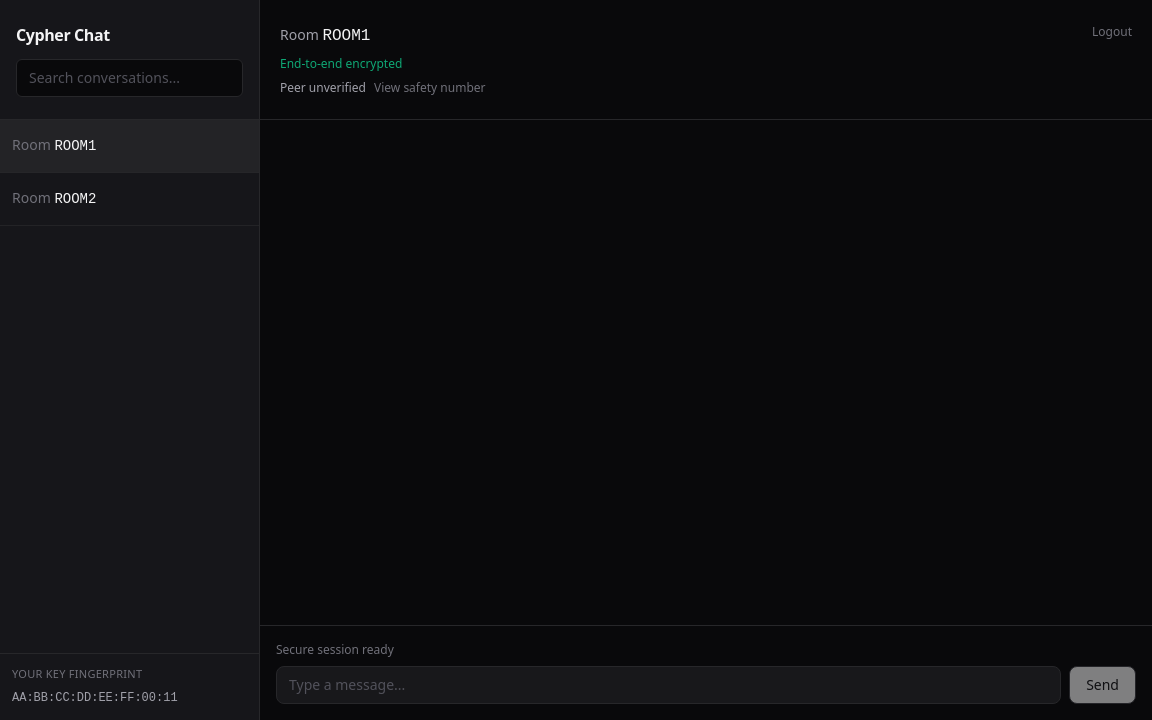
ChatRoom integration › shows unverified peer state and can mark the safety number as verified
This screenshot has width=1152, height=720.
Expected: the text "Peer unverified" is shown, top-left (280, 80), bottom-right (366, 96)
Step 1. Click the button "View safety number" → [430, 88], box top-left (374, 80), bottom-right (486, 96)
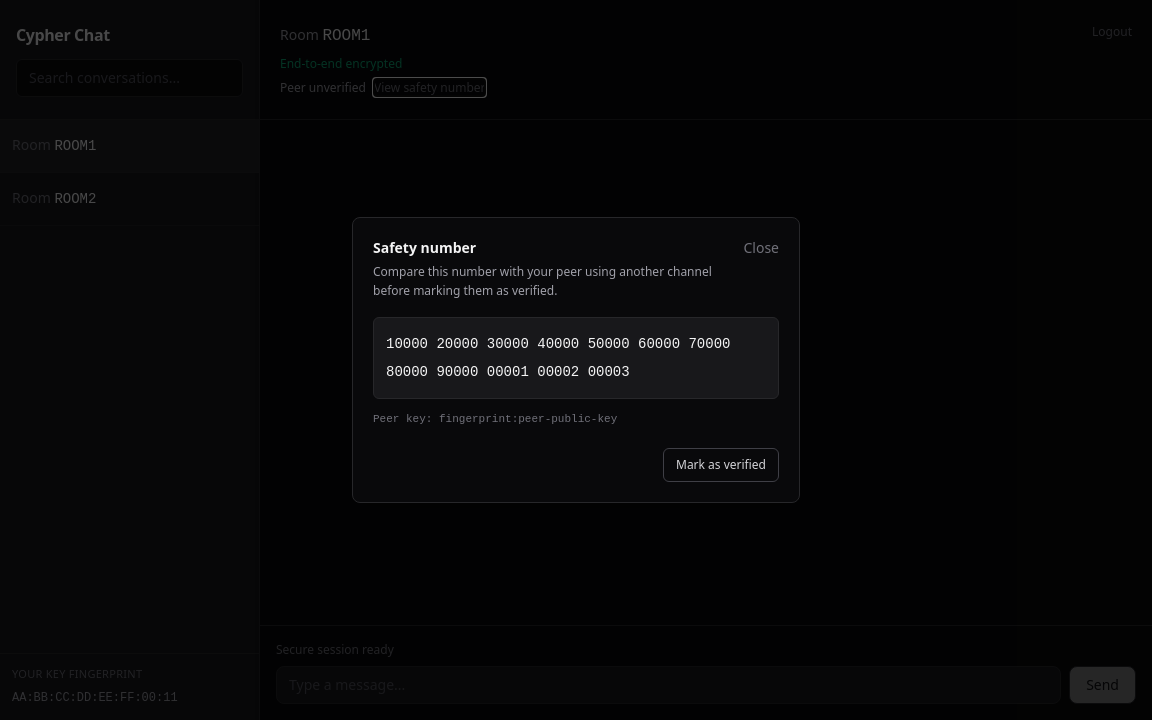
Now the dialog "Safety number" is shown
Now the text "10000 20000 30000" is shown, box top-left (386, 336), bottom-right (730, 380)
Step 2. Click the button "Mark as verified" → [721, 465], box top-left (663, 448), bottom-right (779, 482)
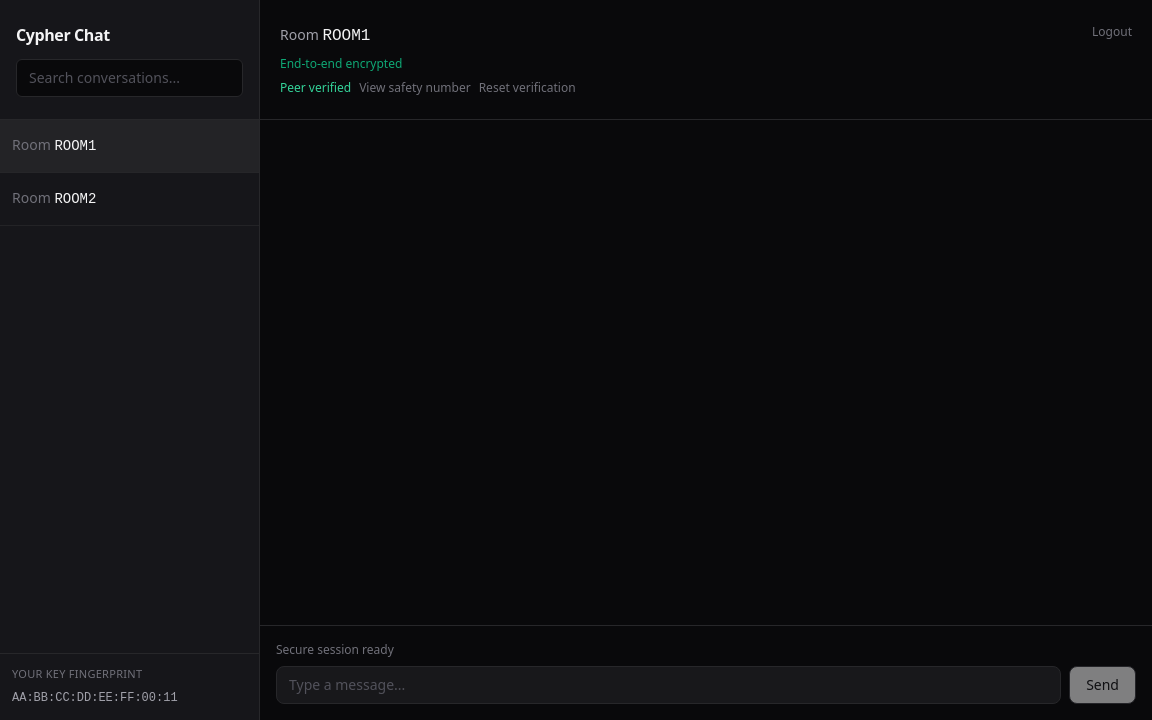
Now the text "Peer verified" is shown, box top-left (280, 80), bottom-right (351, 96)
